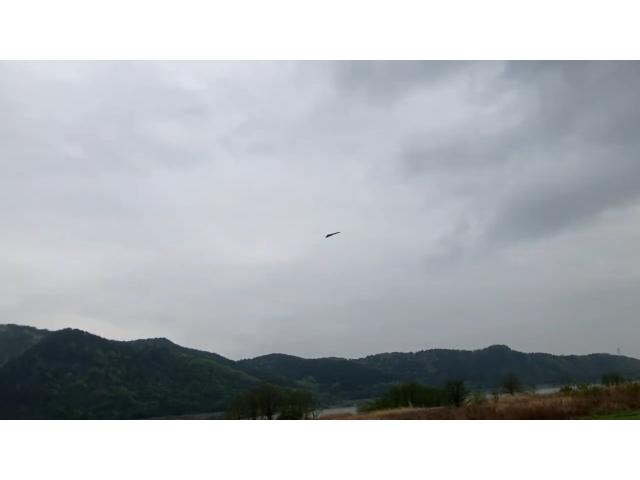Anti-Drone: (318, 226, 352, 250)
